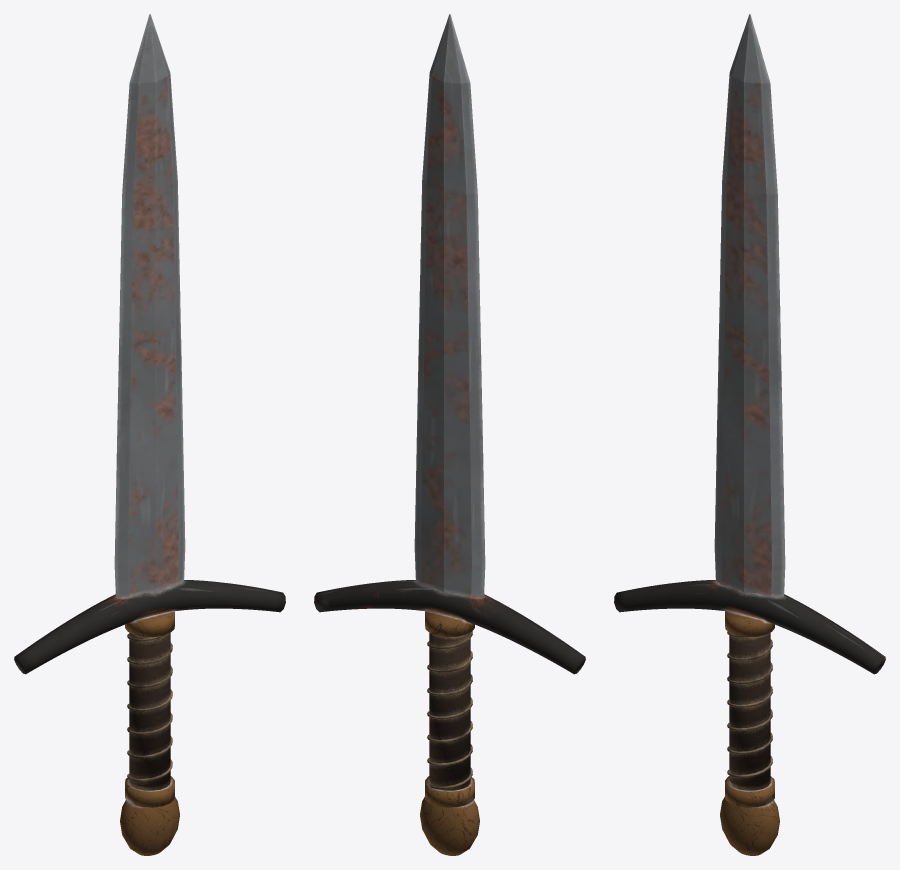
The model's file is eq_sword_1.glb.
The picture shows the model from 3 angles, left to right: view 1: azimuth 30°, elevation 25°; view 2: azimuth 150°, elevation 25°; view 3: azimuth 330°, elevation 25°; orthographic projection.
Visible parts, largest first — view 1: eq_sword_1; view 2: eq_sword_1; view 3: eq_sword_1.
Boxes of the visible parts, x1,y1,x2,y2 form: eq_sword_1: (14,14,285,855); eq_sword_1: (314,14,585,855); eq_sword_1: (614,14,885,855).
Bounding box in the file's own units: 0.3526 × 1.06 × 0.058.
Materials: 1 (1 with a texture image).
